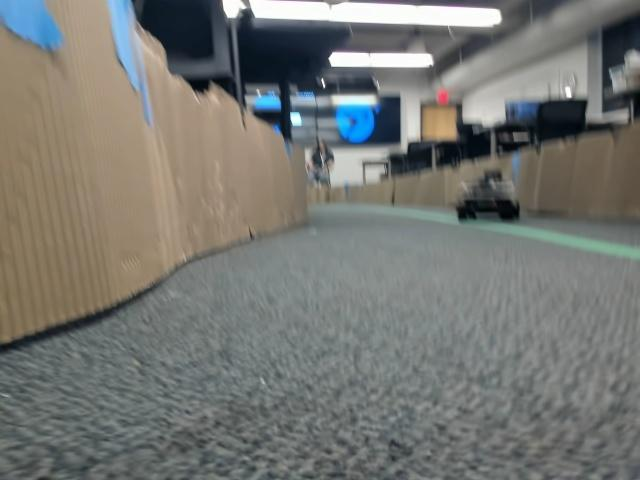Car: (454, 167, 519, 221)
